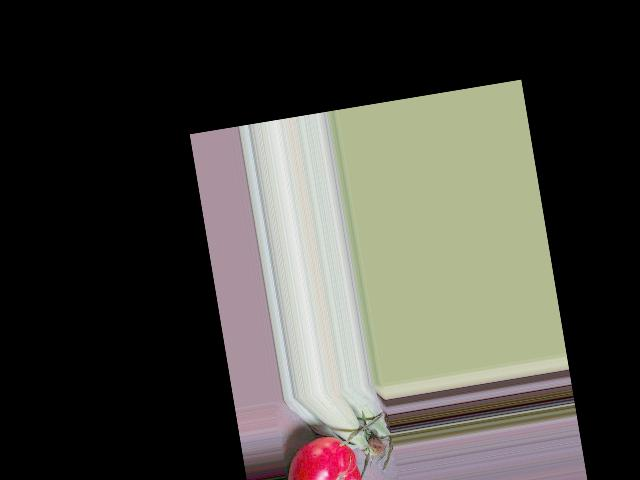tomato: (281, 432, 366, 480)
